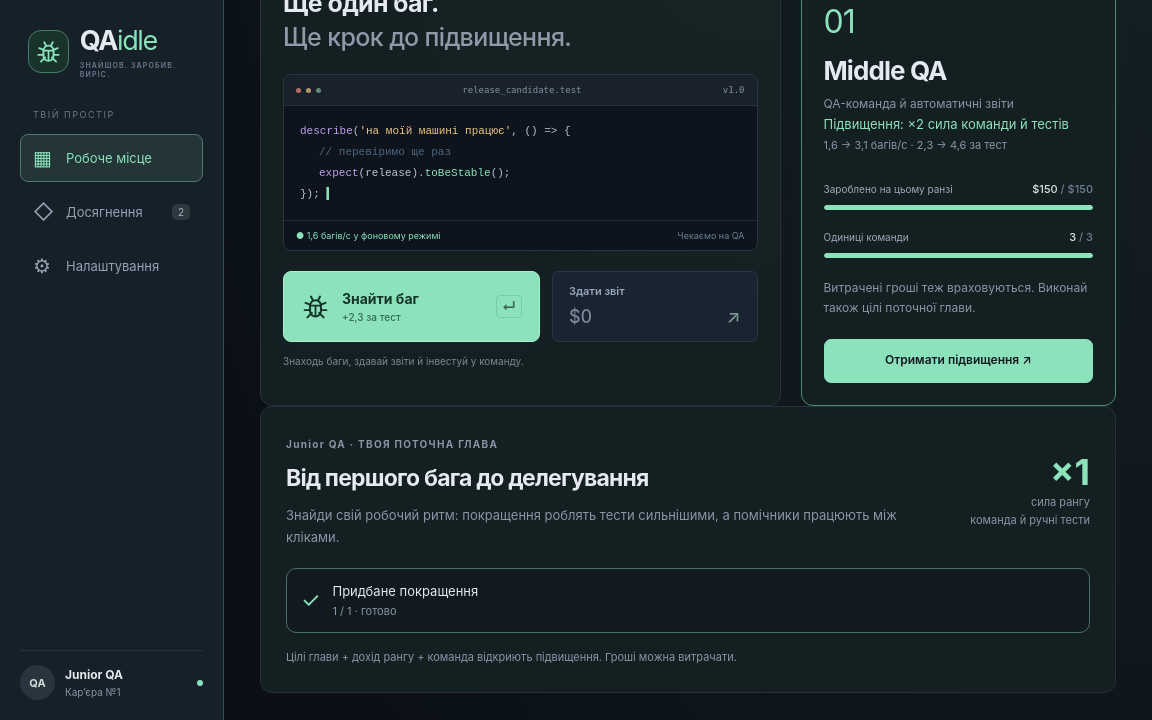
Test: playable career UI › promotes to Middle, buys automation and earns while idle
(page scrolled)
Click the button "Отримати підвищення ↗": (958, 361) [824, 339, 1093, 383]
(page scrolled)
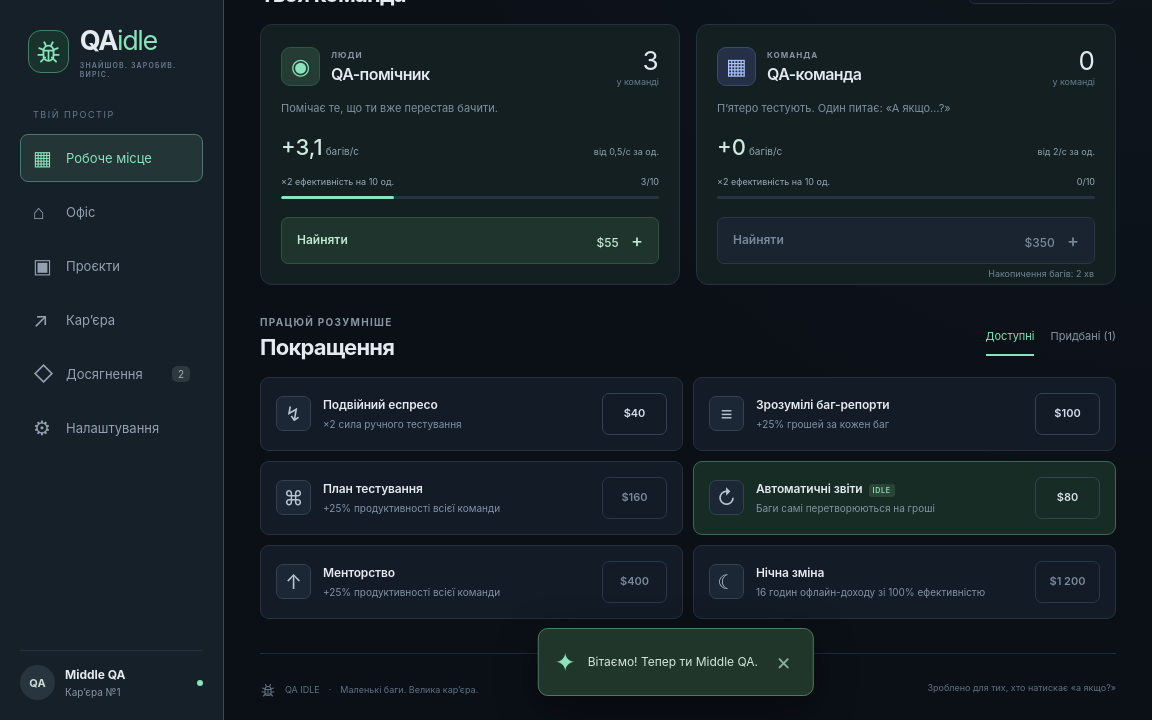
Click the button named "Купити Автоматичні звіти": (1068, 498) [1035, 477, 1100, 519]
Wait 5000 ms
(page scrolled)
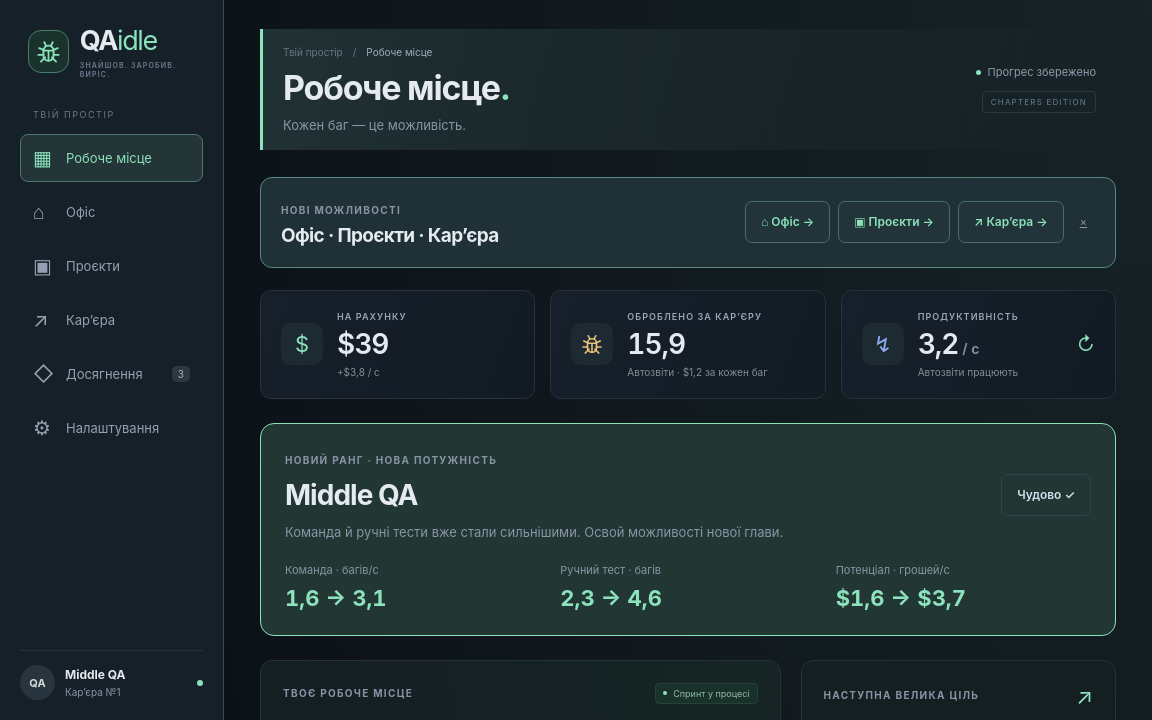
Now the text "Автозвіти працюють" is shown, box [918, 366, 1019, 378]
Now the text "ОБРОБЛЕНО ЗА КАР’ЄРУ" is shown, box [627, 311, 768, 322]
